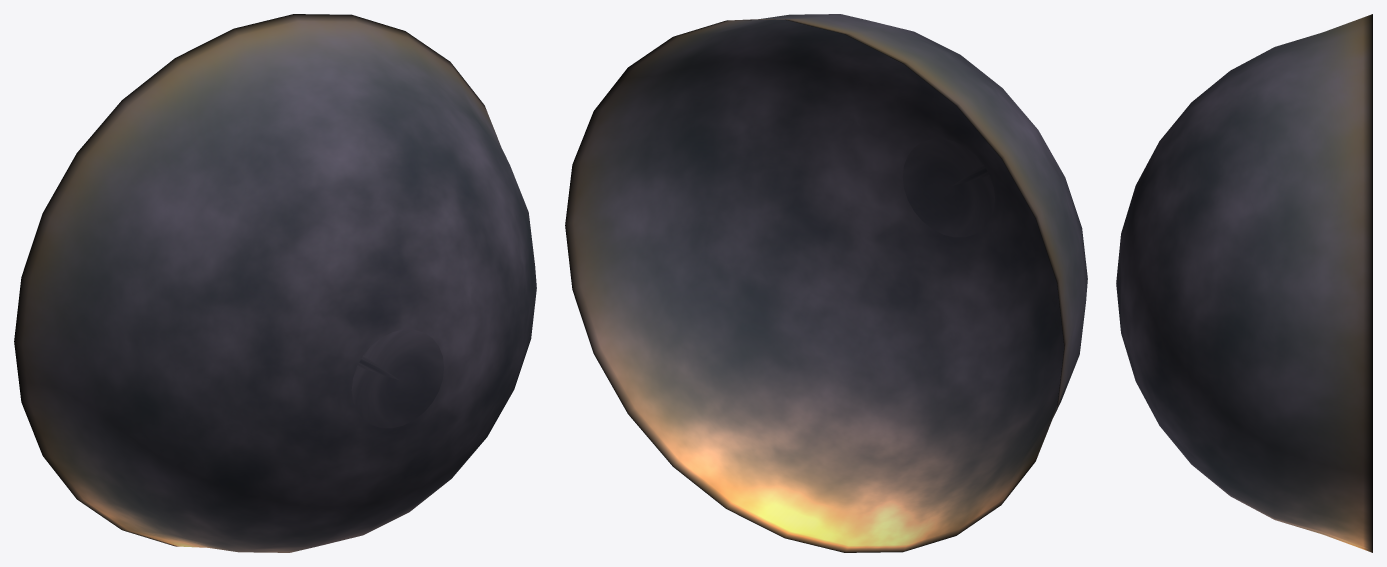
Rendered from skybox.obj.
The picture shows the model from 3 angles, left to right: view 1: azimuth 30°, elevation 25°; view 2: azimuth 150°, elevation 25°; view 3: azimuth 270°, elevation 25°; orthographic projection. The views are drawn at different scales.
Visible parts, largest first — view 1: Sphere_Sphere.003_Material.001, Sphere_Sphere.003_Material.001_NONE; view 2: Sphere_Sphere.003_Material.001, Sphere_Sphere.003_Material.001_NONE; view 3: Sphere_Sphere.003_Material.001.
Boxes of the visible parts, x1,y1,x2,y2 form: Sphere_Sphere.003_Material.001: (14,14,536,552); Sphere_Sphere.003_Material.001_NONE: (351,329,443,428); Sphere_Sphere.003_Material.001: (565,14,1087,552); Sphere_Sphere.003_Material.001_NONE: (902,138,995,237); Sphere_Sphere.003_Material.001: (1116,14,1372,552).
Bounding box in the file's own units: 11.49 × 11.4 × 5.46.
Materials: 2 (2 with a texture image).
